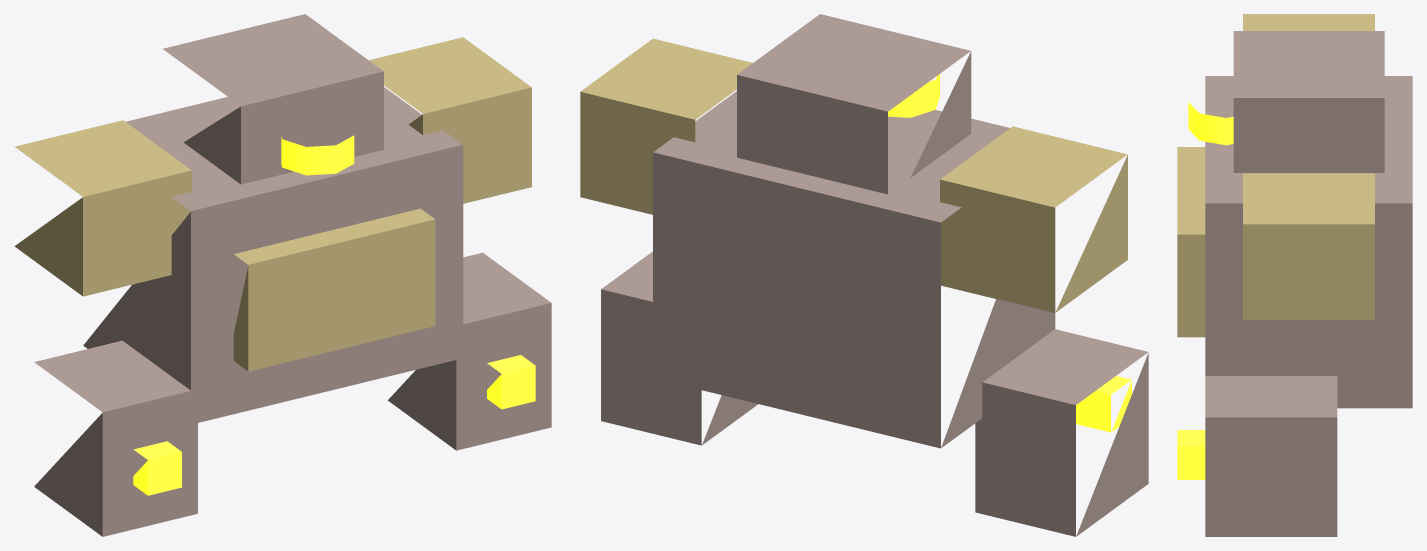
File: golem_mechanical_04.glb
The picture shows the model from 3 angles, left to right: view 1: azimuth 30°, elevation 25°; view 2: azimuth 150°, elevation 25°; view 3: azimuth 270°, elevation 25°; orthographic projection. The views are drawn at different scales.
Parts seen in each view (by area): view 1: MechanicalArmor, MechanicalGears, MechanicalGlow; view 2: MechanicalArmor, MechanicalGears, MechanicalGlow; view 3: MechanicalArmor, MechanicalGears, MechanicalGlow.
Boxes of the visible parts, <box> form: MechanicalArmor: <box>34,14,551,536</box>; MechanicalGears: <box>14,37,531,371</box>; MechanicalGlow: <box>133,135,535,495</box>; MechanicalArmor: <box>601,14,1148,536</box>; MechanicalGears: <box>580,38,1127,312</box>; MechanicalGlow: <box>888,74,1131,432</box>; MechanicalArmor: <box>1205,31,1412,536</box>; MechanicalGears: <box>1177,14,1374,337</box>; MechanicalGlow: <box>1177,102,1233,479</box>.
Bounding box in the file's own units: 1.32 × 1.08 × 0.625.
